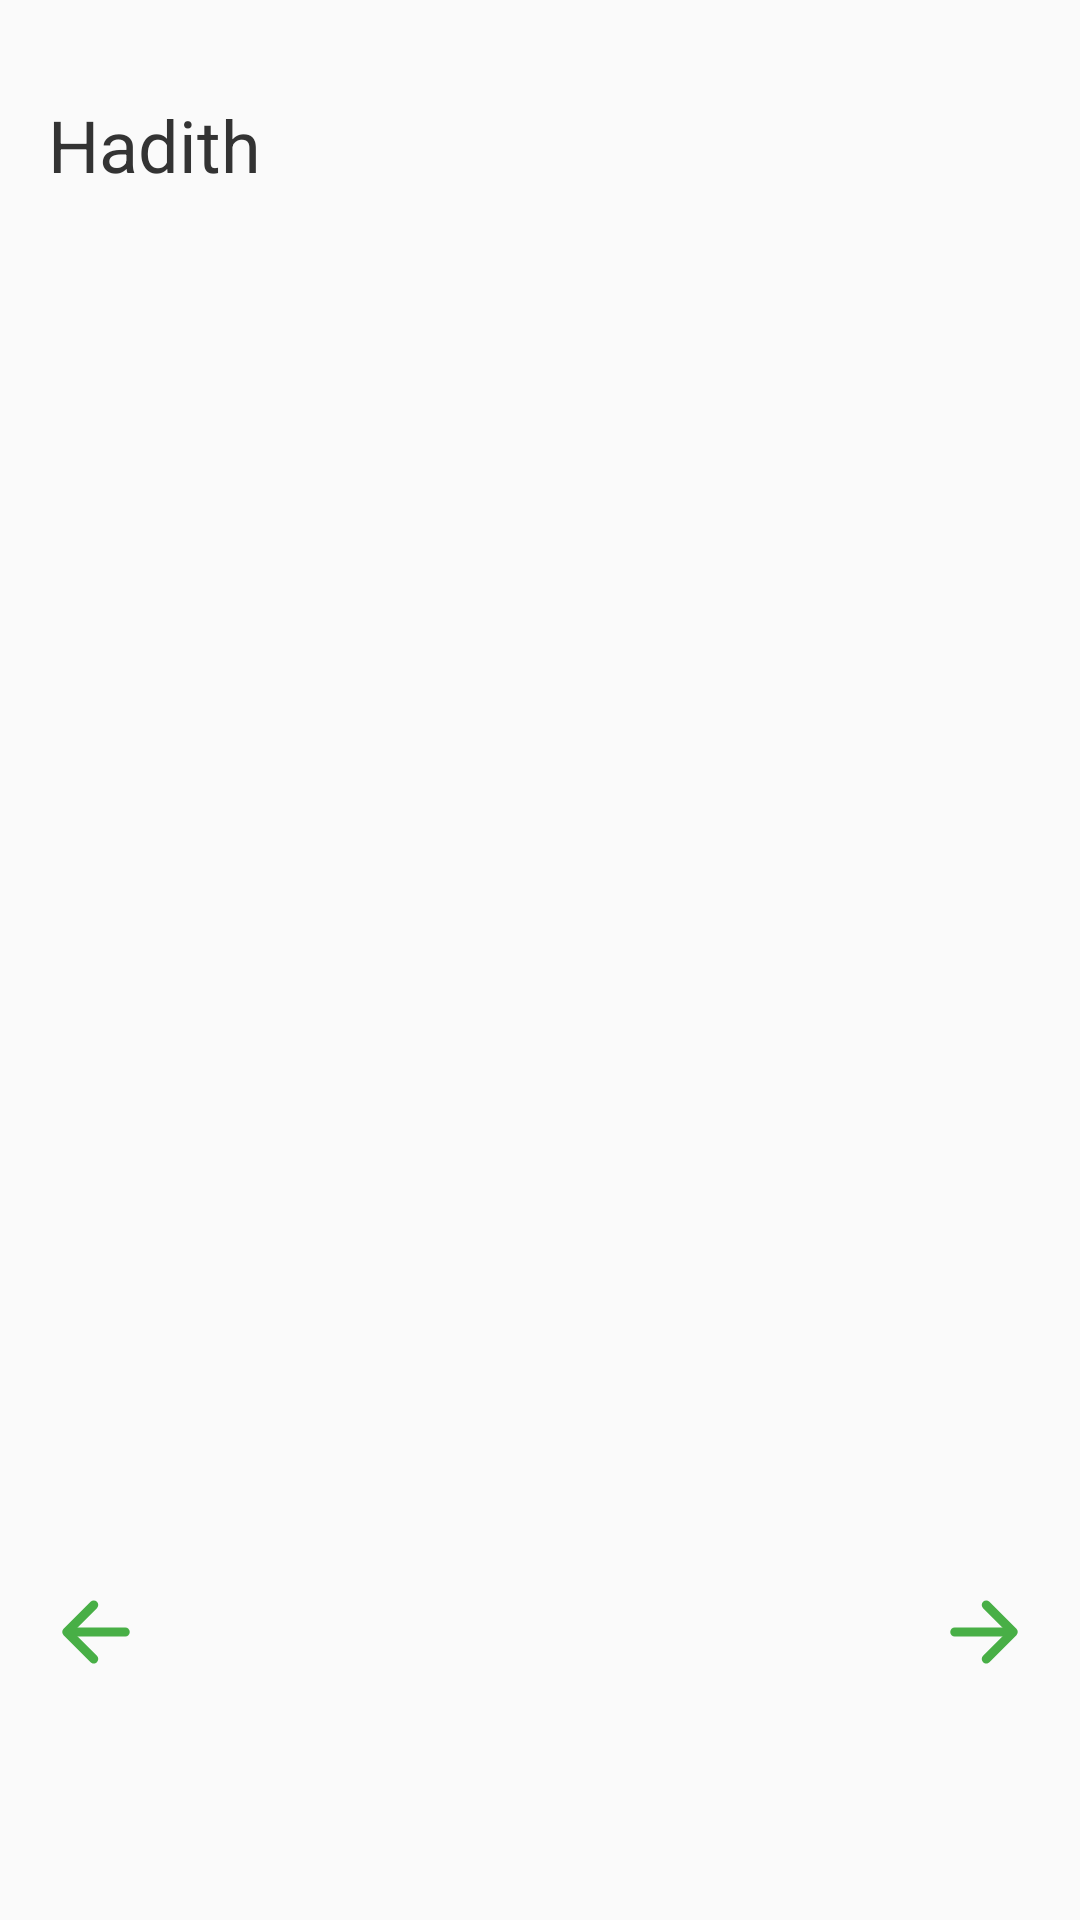

Icons on this 1080px×1920px Android screen, each with its box as region(x1, y1, x2, y2):
arrow left: region(62, 1600, 130, 1664)
arrow right: region(950, 1600, 1018, 1664)
